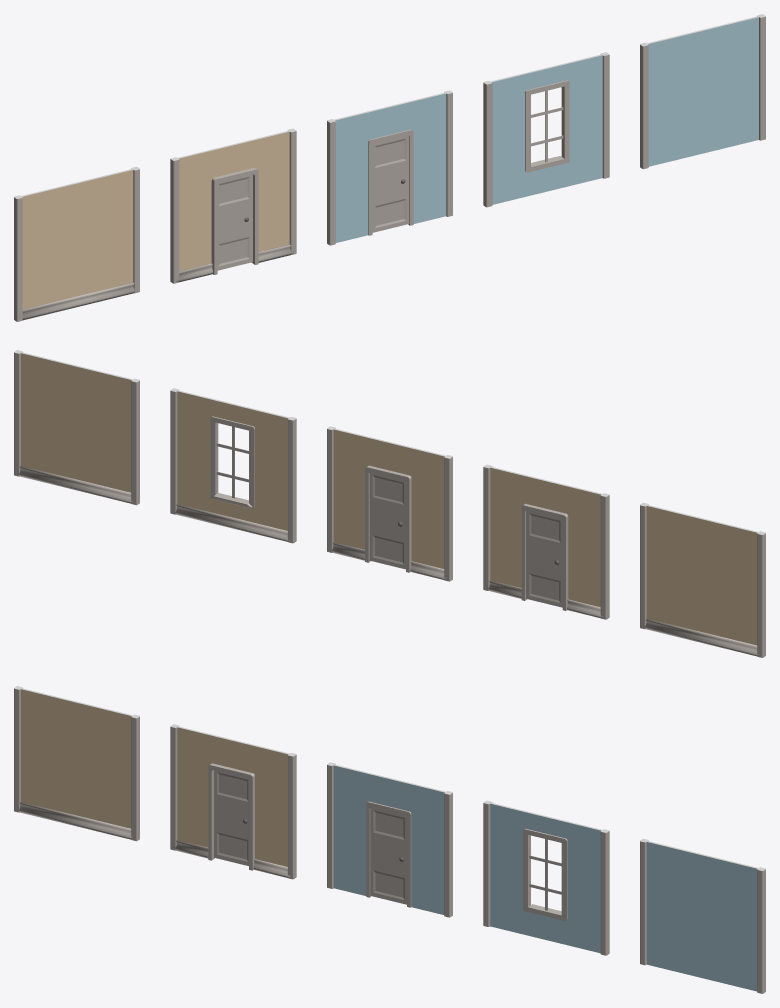
The model's file is walls.fbx.
3 renders of one model, top to bottom at view 1: azimuth 30°, elevation 25°; view 2: azimuth 150°, elevation 25°; view 3: azimuth 330°, elevation 25°, orthographic.
Visible parts, largest first — view 1: internal_internal_door, internal_internal_base, internal_external_base, internal_external_door, internal_external_window; view 2: internal_internal_door, internal_external_base, internal_internal_base, internal_external_door, internal_external_window; view 3: internal_internal_door, internal_internal_base, internal_external_base, internal_external_door, internal_external_window.
Boxes of the visible parts, left/top/right/bottom form: internal_internal_door: left=170, top=128, right=296, bottom=283; internal_internal_base: left=14, top=166, right=139, bottom=321; internal_external_base: left=640, top=14, right=765, bottom=169; internal_external_door: left=327, top=90, right=452, bottom=245; internal_external_window: left=483, top=52, right=609, bottom=207; internal_internal_door: left=483, top=464, right=609, bottom=619; internal_external_base: left=14, top=350, right=139, bottom=505; internal_internal_base: left=640, top=502, right=765, bottom=657; internal_external_door: left=327, top=426, right=452, bottom=581; internal_external_window: left=170, top=388, right=296, bottom=543; internal_internal_door: left=170, top=724, right=296, bottom=879; internal_internal_base: left=14, top=686, right=139, bottom=841; internal_external_base: left=640, top=838, right=765, bottom=993; internal_external_door: left=327, top=762, right=452, bottom=917; internal_external_window: left=483, top=800, right=609, bottom=955.
Size of the model in its own units: 1916 by 300 by 26.88.
